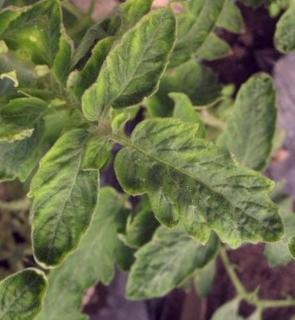Tomato leaf yellow virus: (97, 94, 295, 265), (0, 112, 132, 278), (64, 0, 190, 141), (110, 186, 241, 320), (192, 58, 295, 181)
